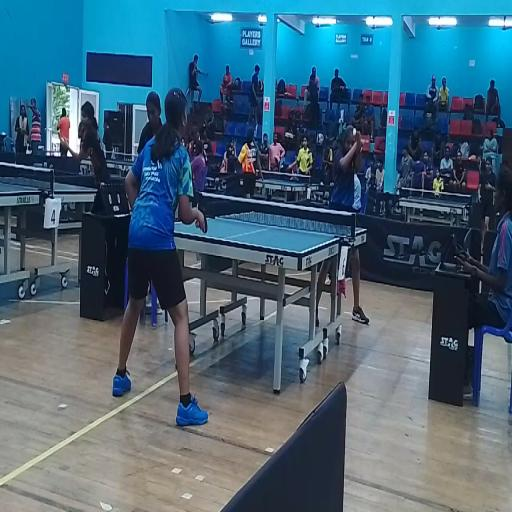ball: (353, 128, 356, 135)
